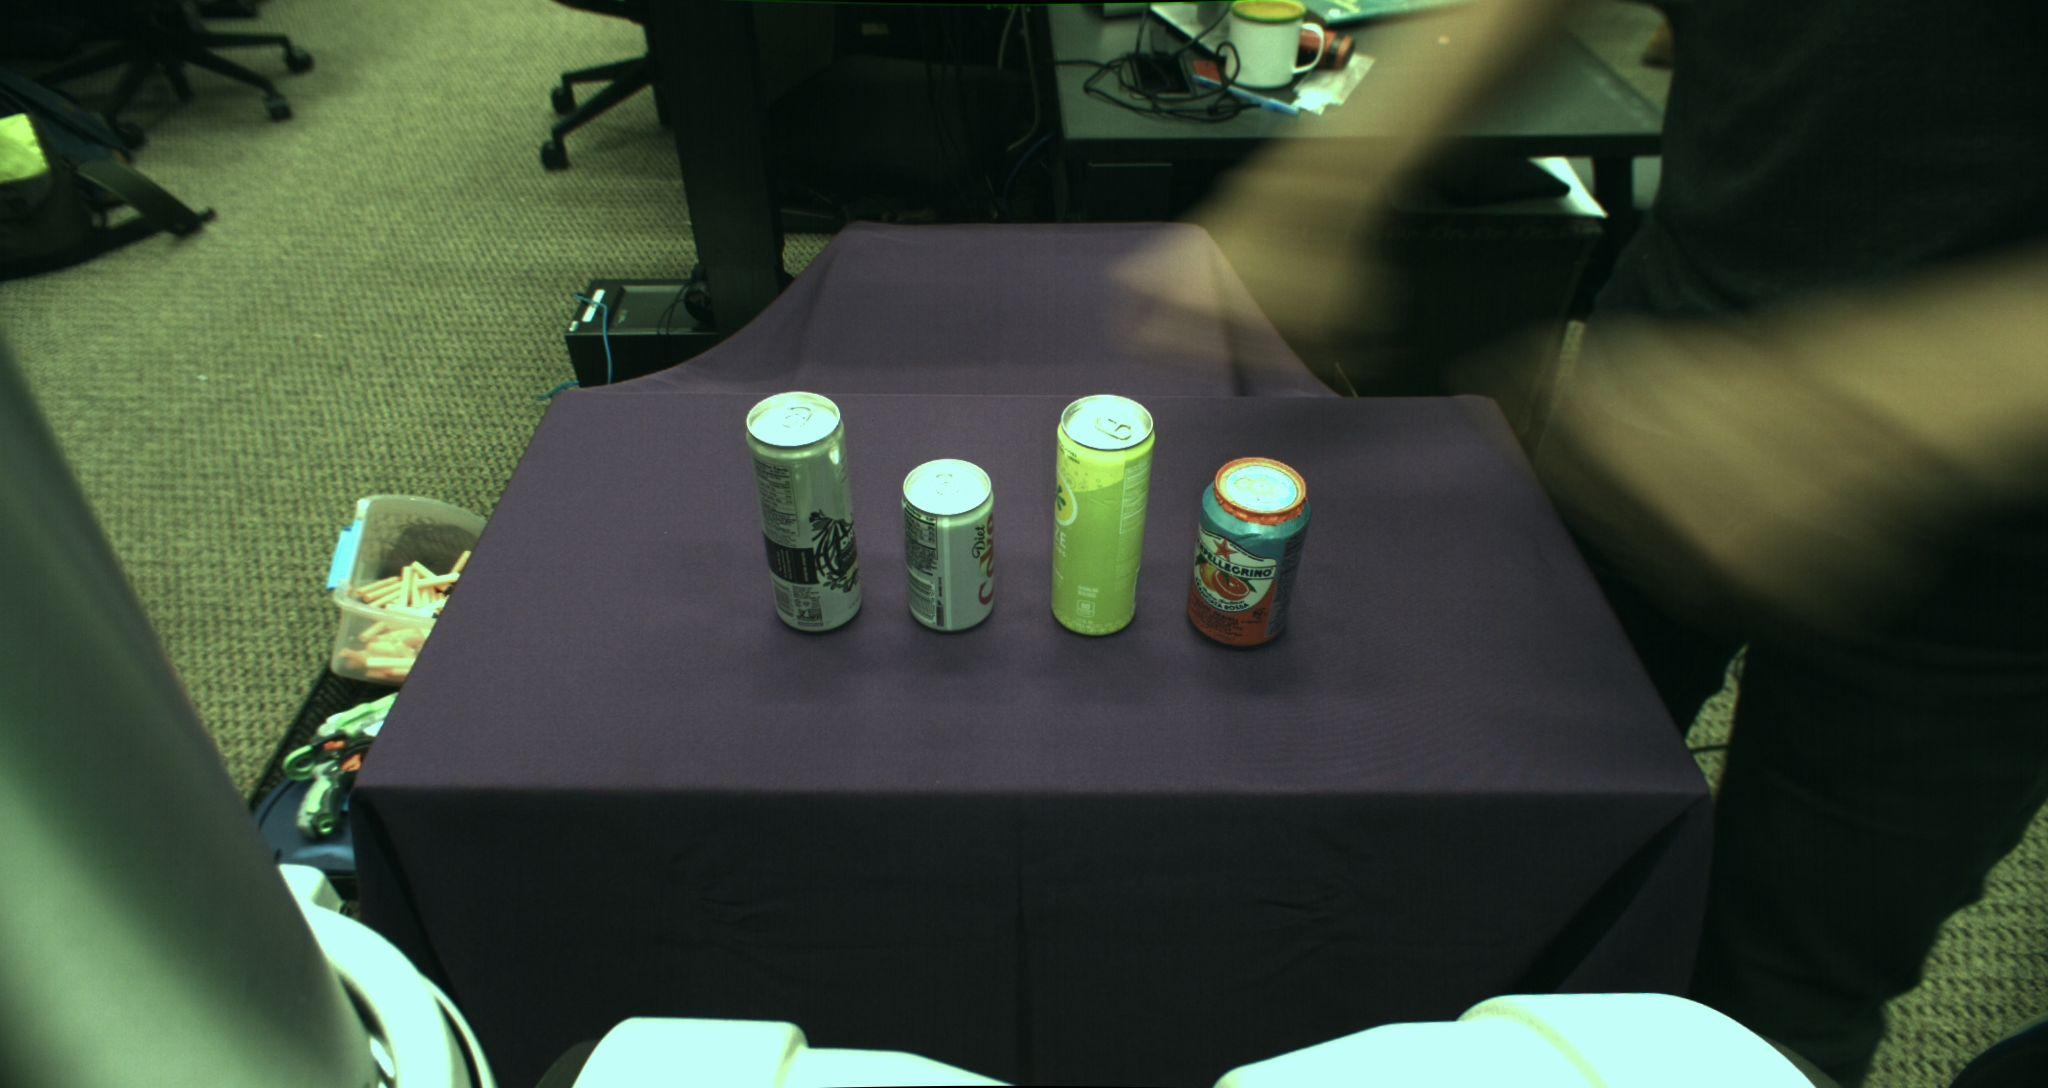can_diet_coke_small: (901, 458, 996, 631)
can_dry_sparkling_vanilla_bean: (746, 392, 861, 631)
can_izze_fusions_lemon_lime: (1050, 393, 1154, 635)
can_sanpellegrino_blood_orange: (1189, 455, 1308, 648)
